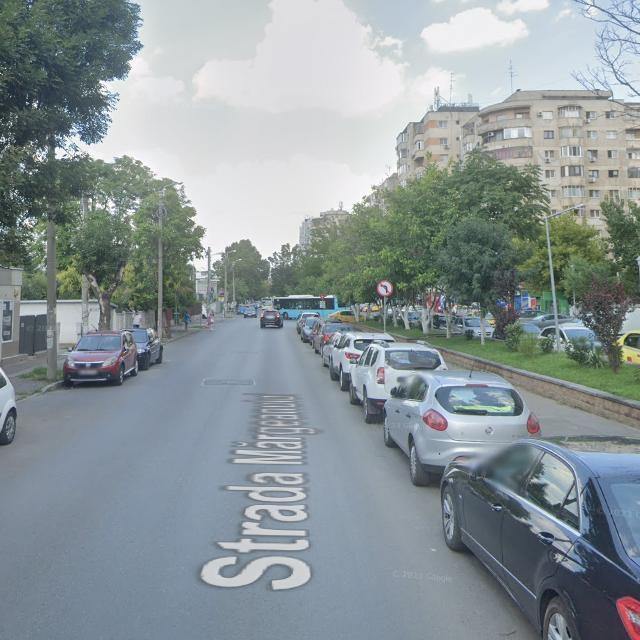prio_give_way: (319, 294, 327, 301)
